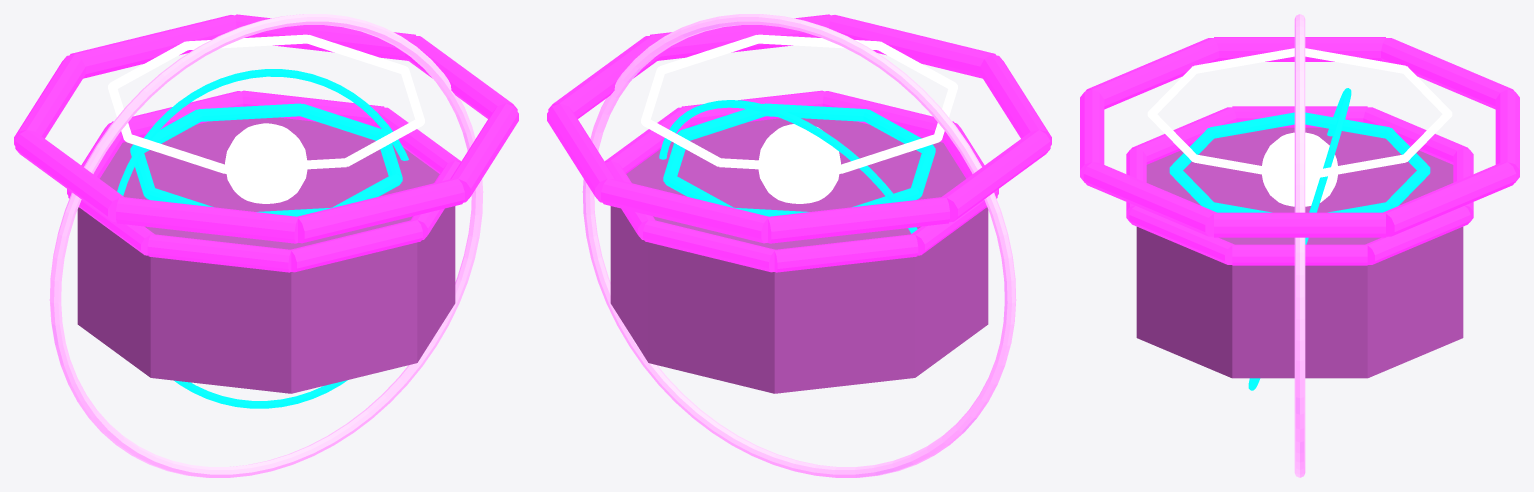
File: null_octagon_prime.glb
3 views of the same model, side by side, from view 1: azimuth 30°, elevation 25°; view 2: azimuth 150°, elevation 25°; view 3: azimuth 270°, elevation 25° (orthographic). The views are drawn at different scales.
Visible parts, largest first — view 1: NullOctagonBlackGlassBody, NullOctagonVoidCageA, NullBossReadabilityOctagonRoute4, NullBossReadabilityOctagonRoute5, NullOctagonWhiteCore, NullOctagonVoidCageB, NullBossReadabilityOctagonRoute1, NullOctagonOuterEdge4, NullBossReadabilityOctagonRoute3, NullOctagonOuterEdge5, NullBossReadabilityOctagonRoute0, NullBossReadabilityOctagonRoute6 (+19 smaller); view 2: NullOctagonBlackGlassBody, NullOctagonVoidCageA, NullBossReadabilityOctagonRoute2, NullBossReadabilityOctagonRoute1, NullOctagonWhiteCore, NullBossReadabilityOctagonRoute5, NullOctagonOuterEdge2, NullBossReadabilityOctagonRoute3, NullOctagonOuterEdge1, NullBossReadabilityOctagonRoute6, NullBossReadabilityOctagonRoute0, NullBossReadabilityOctagonRoute7 (+20 smaller); view 3: NullOctagonBlackGlassBody, NullOctagonVoidCageA, NullBossReadabilityOctagonRoute7, NullBossReadabilityOctagonRoute0, NullBossReadabilityOctagonRoute6, NullBossReadabilityOctagonRoute2, NullBossReadabilityOctagonRoute4, NullOctagonWhiteCore, NullBossReadabilityOctagonRoute3, NullOctagonOuterEdge7, NullOctagonOuterEdge0, NullOctagonOuterEdge6 (+22 smaller).
Part boxes in pixels (box(x1,y1,x2,y2)): NullOctagonBlackGlassBody: box(77, 117, 455, 393); NullOctagonVoidCageA: box(49, 14, 483, 477); NullBossReadabilityOctagonRoute4: box(116, 197, 297, 243); NullBossReadabilityOctagonRoute5: box(297, 179, 464, 243); NullOctagonWhiteCore: box(225, 123, 307, 203); NullOctagonVoidCageB: box(117, 69, 408, 408); NullBossReadabilityOctagonRoute1: box(70, 15, 236, 78); NullOctagonOuterEdge4: box(147, 234, 291, 272); NullBossReadabilityOctagonRoute3: box(15, 130, 124, 222); NullOctagonOuterEdge5: box(290, 220, 422, 272); NullBossReadabilityOctagonRoute0: box(235, 14, 415, 60); NullBossReadabilityOctagonRoute6: box(450, 103, 518, 202); NullOctagonBlackGlassBody: box(610, 118, 988, 393); NullOctagonVoidCageA: box(582, 14, 1016, 477); NullBossReadabilityOctagonRoute2: box(768, 197, 949, 243); NullBossReadabilityOctagonRoute1: box(601, 179, 768, 243); NullOctagonWhiteCore: box(758, 124, 840, 203); NullBossReadabilityOctagonRoute5: box(829, 15, 995, 78); NullOctagonOuterEdge2: box(774, 234, 918, 272); NullBossReadabilityOctagonRoute3: box(941, 130, 1050, 222); NullOctagonOuterEdge1: box(643, 220, 775, 272); NullBossReadabilityOctagonRoute6: box(650, 14, 830, 60); NullBossReadabilityOctagonRoute0: box(547, 103, 615, 202); NullBossReadabilityOctagonRoute7: box(548, 35, 660, 118); NullOctagonBlackGlassBody: box(1136, 127, 1463, 378); NullOctagonVoidCageA: box(1294, 14, 1305, 477); NullBossReadabilityOctagonRoute7: box(1214, 212, 1385, 237); NullBossReadabilityOctagonRoute0: box(1383, 162, 1516, 236); NullBossReadabilityOctagonRoute6: box(1083, 162, 1216, 236); NullBossReadabilityOctagonRoute2: box(1381, 38, 1513, 109); NullBossReadabilityOctagonRoute4: box(1086, 38, 1218, 109); NullOctagonWhiteCore: box(1262, 132, 1337, 206); NullBossReadabilityOctagonRoute3: box(1214, 37, 1385, 61); NullOctagonOuterEdge7: box(1232, 244, 1367, 265); NullOctagonOuterEdge0: box(1365, 206, 1470, 264); NullOctagonOuterEdge6: box(1129, 206, 1234, 264).
Bounding box in the file's own units: 2.69 × 2.69 × 2.55.
